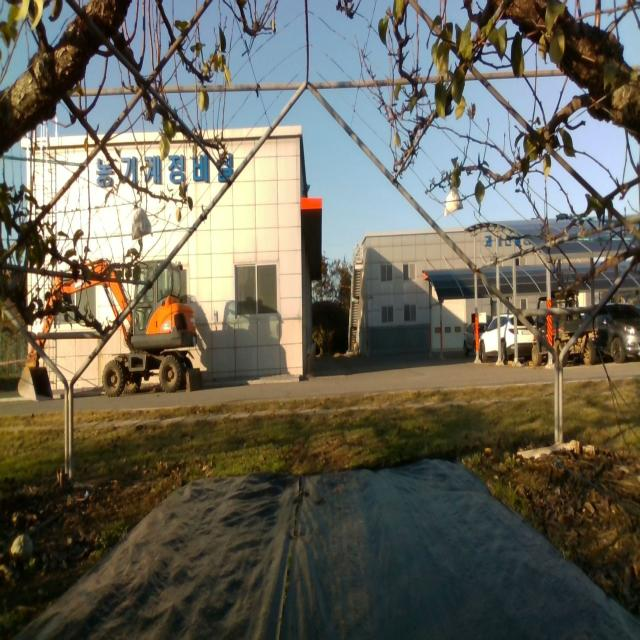pearbags: (131, 206, 151, 240), (444, 186, 464, 218)
